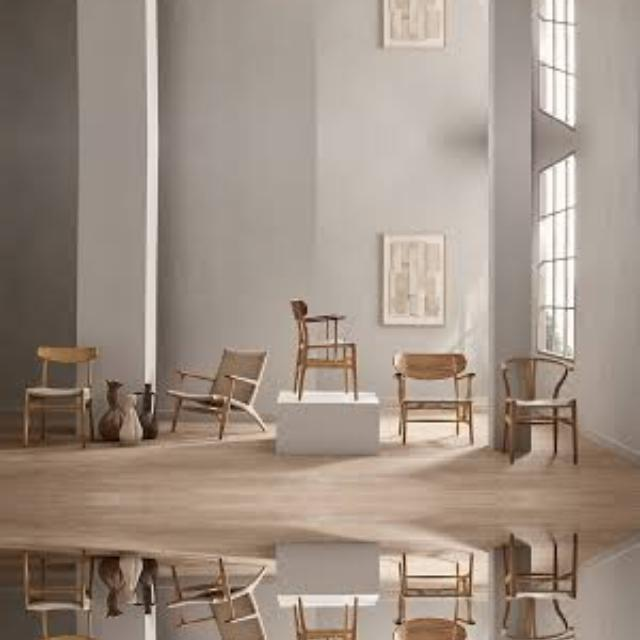obstacle: (392, 337, 484, 453), (279, 288, 371, 400), (391, 544, 484, 640), (279, 596, 371, 640)
